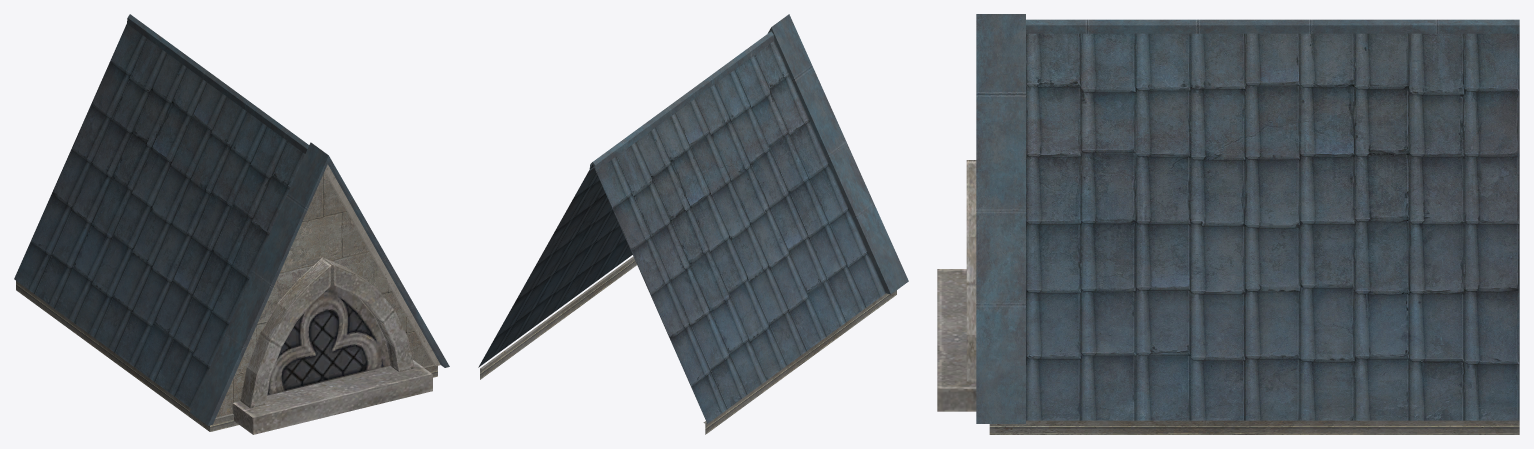
File: bg_lut_lucastle_houseroof02_sm_sup.FBX
3 views of the same model, side by side, from view 1: azimuth 30°, elevation 25°; view 2: azimuth 150°, elevation 25°; view 3: azimuth 270°, elevation 25° (orthographic). The views are drawn at different scales.
Visible parts, largest first — view 1: bg_lut_lucastle_houseroof02_sm_sup; view 2: bg_lut_lucastle_houseroof02_sm_sup; view 3: bg_lut_lucastle_houseroof02_sm_sup.
Boxes of the visible parts, box(x1,y1,x2,y2) form: bg_lut_lucastle_houseroof02_sm_sup: box(14, 14, 449, 434); bg_lut_lucastle_houseroof02_sm_sup: box(478, 14, 908, 434); bg_lut_lucastle_houseroof02_sm_sup: box(937, 14, 1519, 434).
Bounding box in the file's own units: 115 × 115 × 176.
